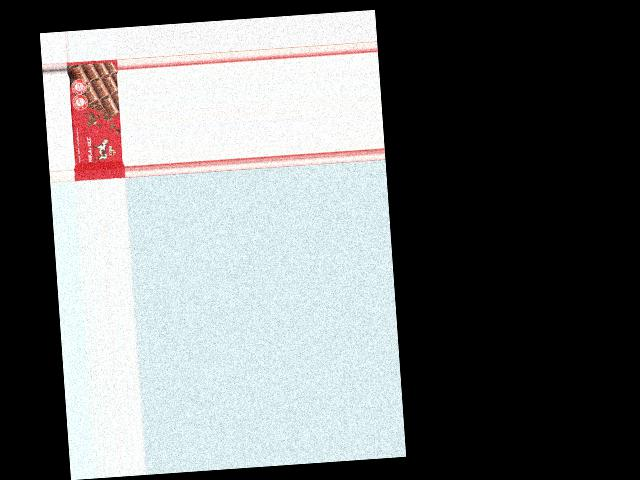chocolate: (66, 59, 124, 179)
